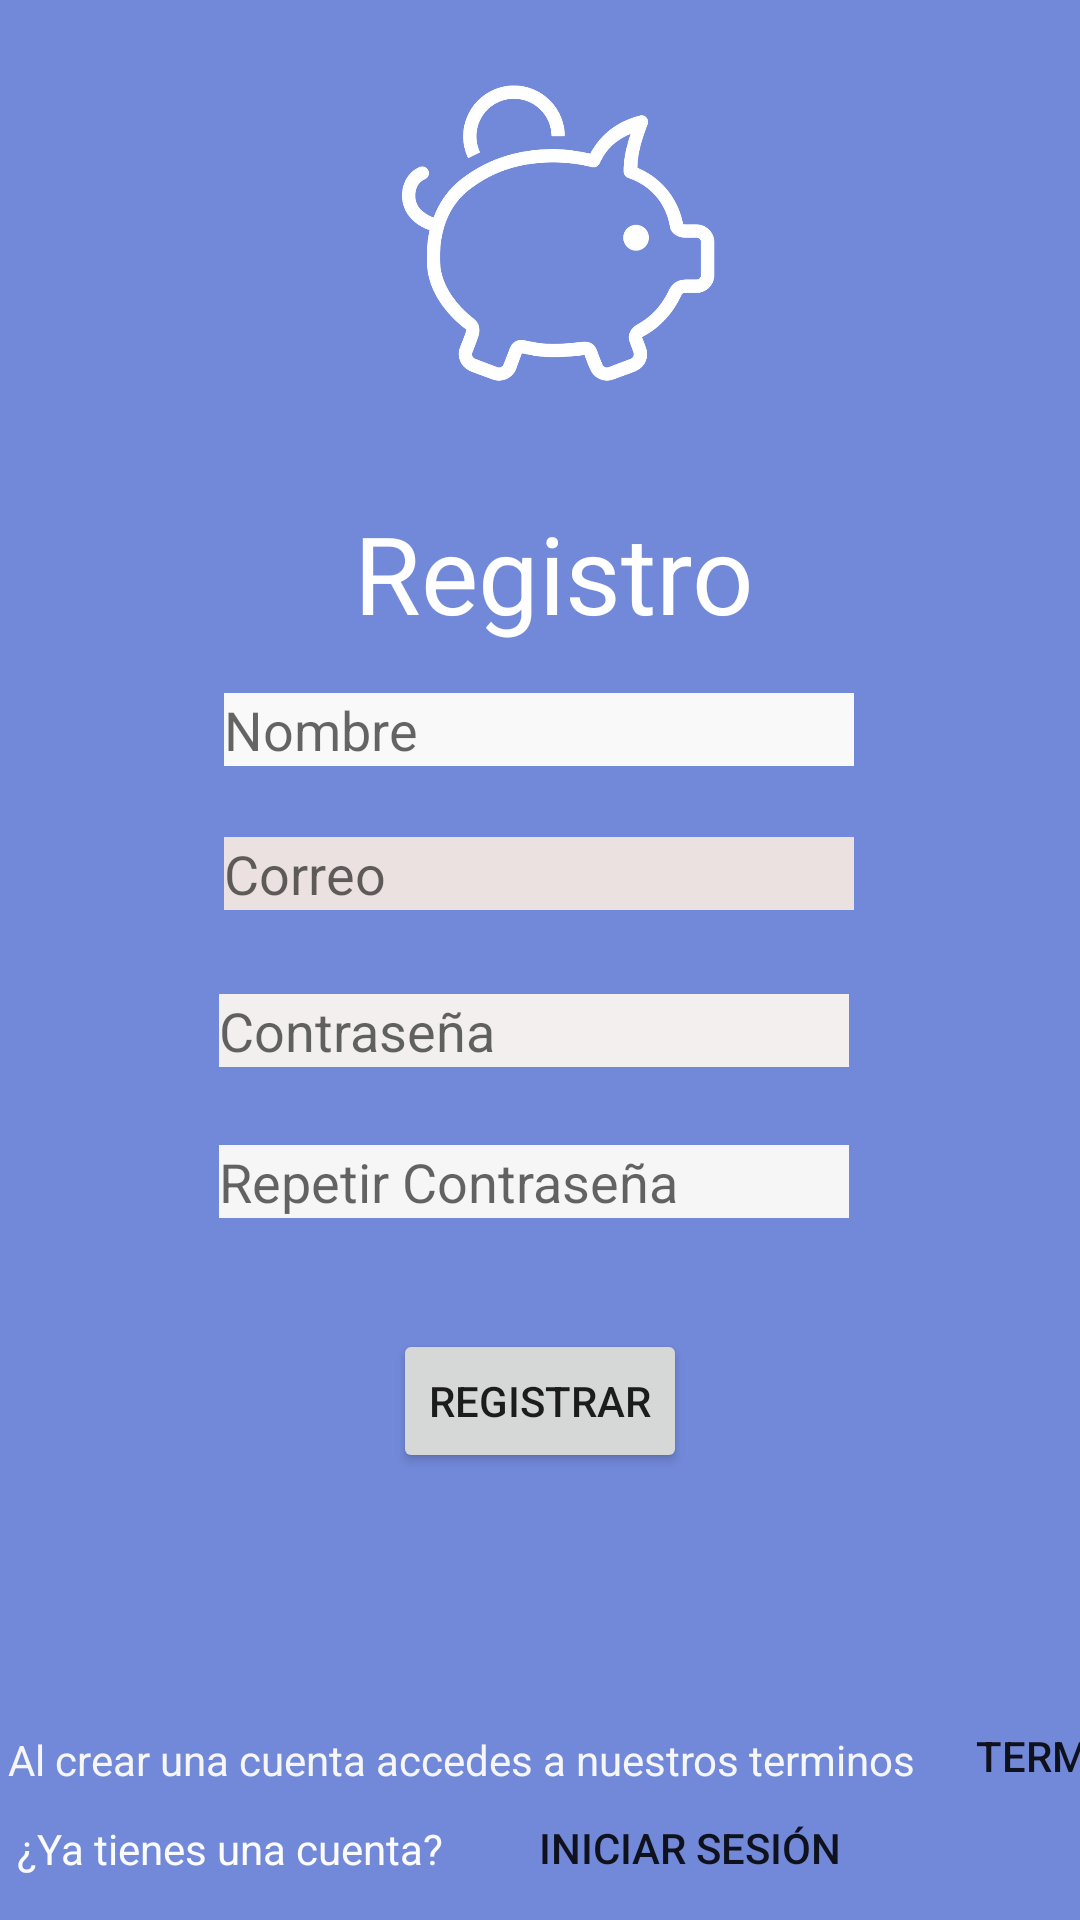

Icon bounding boxes for this 1080*1920 phone screenshot, format (x1, y1, x2, y2):
piggy: (402, 85, 715, 381)
